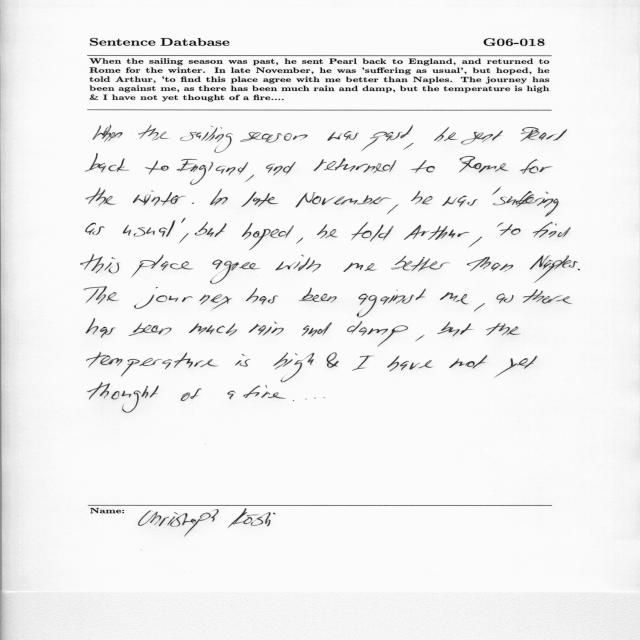word: (86, 352, 218, 377), (134, 287, 232, 310), (88, 382, 159, 413), (357, 289, 426, 318), (177, 159, 249, 185), (493, 191, 559, 217), (347, 321, 408, 347), (295, 192, 391, 207), (180, 126, 233, 153), (242, 223, 294, 250), (132, 255, 194, 277), (530, 255, 578, 283), (362, 125, 413, 151), (314, 158, 396, 173), (274, 353, 315, 383), (210, 260, 260, 284), (404, 225, 469, 240), (391, 256, 450, 272), (495, 356, 538, 377), (123, 220, 176, 237), (85, 153, 130, 173), (133, 190, 186, 206), (275, 255, 321, 273), (351, 222, 394, 241), (459, 156, 509, 172), (240, 132, 308, 143), (387, 356, 433, 372), (523, 289, 572, 304), (81, 254, 119, 273), (521, 127, 567, 142), (467, 257, 513, 272), (189, 323, 237, 336), (84, 287, 118, 305), (533, 222, 571, 238), (129, 322, 172, 336), (242, 191, 279, 207), (461, 131, 503, 145), (244, 385, 286, 399), (86, 318, 115, 338), (86, 188, 116, 207), (299, 288, 337, 303), (246, 288, 278, 305), (437, 322, 473, 337), (93, 125, 123, 142), (520, 159, 553, 174), (449, 355, 487, 368), (249, 322, 284, 336), (138, 125, 168, 141), (195, 222, 227, 237), (486, 323, 521, 336), (302, 322, 332, 337), (442, 196, 478, 207), (266, 162, 296, 175), (434, 127, 457, 142), (343, 262, 377, 272), (145, 161, 169, 175), (440, 292, 468, 304), (352, 355, 373, 371), (327, 131, 359, 141), (411, 160, 435, 173), (210, 189, 228, 206), (317, 224, 337, 239), (411, 191, 433, 204), (181, 388, 201, 401), (500, 224, 521, 236), (86, 223, 105, 235), (496, 293, 514, 304), (236, 354, 251, 367), (327, 352, 339, 368), (469, 237, 482, 248), (387, 205, 398, 215), (179, 233, 189, 243), (474, 303, 485, 312), (492, 187, 501, 195), (404, 143, 414, 150), (228, 391, 236, 399), (245, 175, 254, 182), (415, 335, 425, 341), (296, 238, 303, 244), (497, 222, 503, 227), (182, 218, 186, 223), (192, 202, 194, 204), (578, 269, 580, 271), (293, 400, 294, 401)
